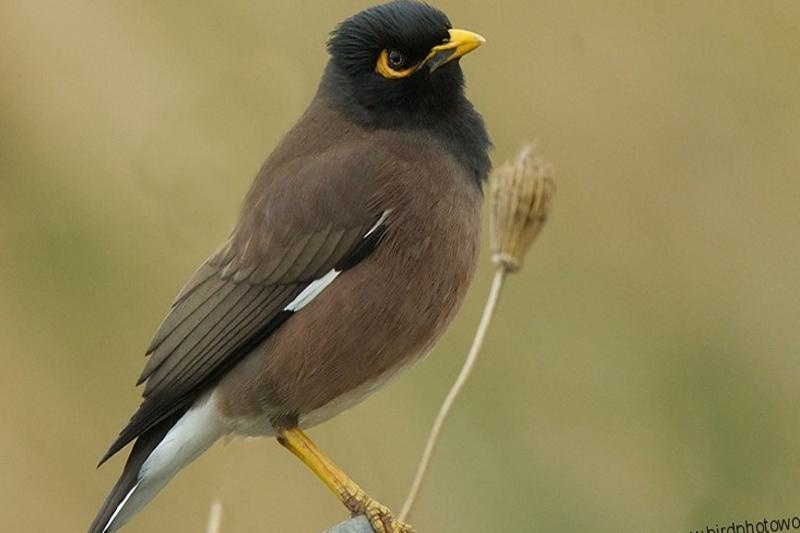myna: (113, 10, 494, 533)
